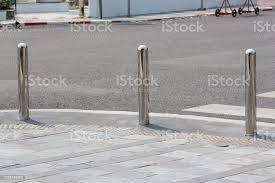Animal: (232, 47, 262, 135), (132, 41, 158, 129), (13, 36, 24, 117)
